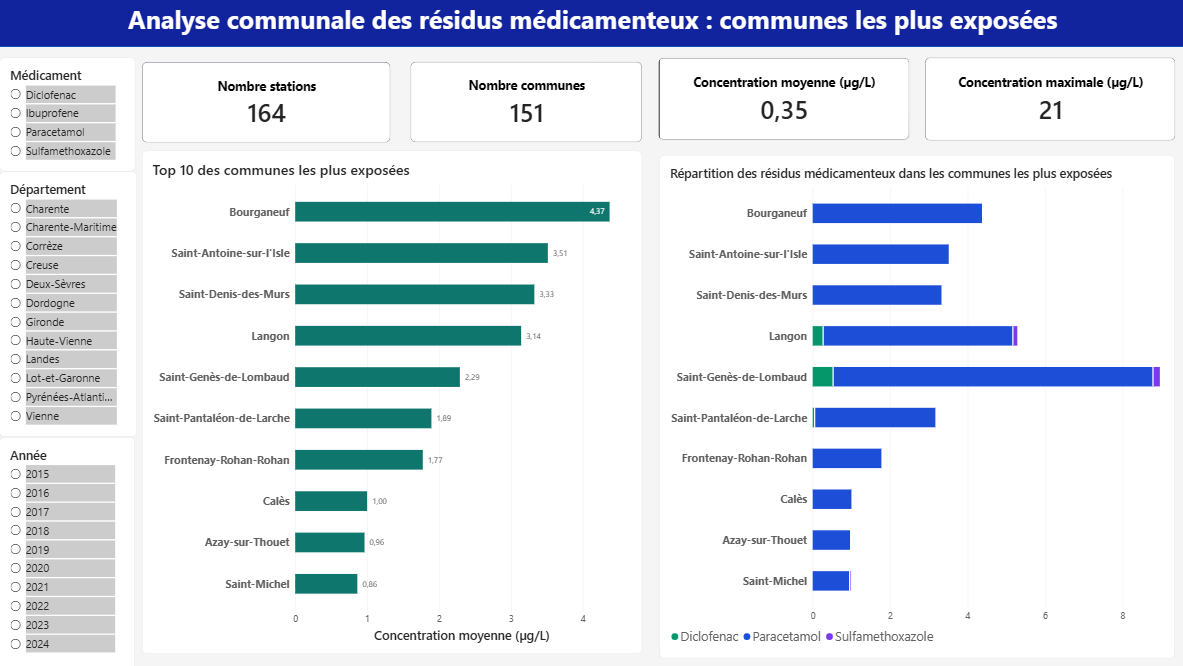

What the dashboard file says about the page in this screenshot:
{"tool":"powerbi","page":{"name":"Analyse Communale","canvas":[1920,1080],"ordinal":2},"visuals":[{"type":"shape","box":[11.9,0,1906.3,90.7],"z":0},{"type":"listSlicer","title":"Département","fields":{"Values":["donnees_medicaments_nouvelle_aquitaine_clean.departement"]},"box":[21.4,288.3,218.9,421.7],"z":1000},{"type":"listSlicer","title":"Médicament","fields":{"Values":["donnees_medicaments_nouvelle_aquitaine_clean.medicament"]},"box":[21.4,106.8,216.2,181.5],"z":2000},{"type":"listSlicer","title":"Année","fields":{"Values":["donnees_medicaments_nouvelle_aquitaine_clean.annee"]},"box":[21.5,709.8,215.1,370.5],"z":3000},{"type":"cardVisual","fields":{"Data":["Mesures.Nombre communes"]},"box":[674.2,111.5,369,130.1],"z":4000},{"type":"cardVisual","fields":{"Data":["Mesures.Concentration moyenne (µg/L)"]},"box":[1070.1,107.8,401.6,132.1],"z":5000},{"type":"cardVisual","fields":{"Data":["Mesures.Concentration maximale"]},"box":[1493.2,107.8,398.9,132.1],"z":6000},{"type":"cardVisual","fields":{"Data":["Mesures.Nombre stations"]},"box":[248.2,114.8,395,128.1],"z":7000},{"type":"clusteredBarChart","title":"Top 10 des communes les plus exposées","fields":{"Category":["donnees_medicaments_nouvelle_aquitaine_clean.commune"],"Y":["Mesures.Concentration moyenne (µg/L)"]},"box":[248.2,256.2,795.4,800.7],"z":8000},{"type":"barChart","title":"Répartition des résidus médicamenteux dans les communes les plus exposées","fields":{"Category":["donnees_medicaments_nouvelle_aquitaine_clean.commune"],"Y":["Mesures.Concentration moyenne (µg/L)"],"Series":["donnees_medicaments_nouvelle_aquitaine_clean.medicament"]},"box":[1070.3,261.6,819.4,800.7],"z":9000}]}

Visuals, with their boxes in screenshot pixels (x1, y1, x2, y2), scaled from the page's 1920x1080 canvas onto the 1183x666 screenshot:
shape: x1=7, y1=0, x2=1182, y2=56
"Département" listSlicer: x1=13, y1=178, x2=148, y2=438
"Médicament" listSlicer: x1=13, y1=66, x2=146, y2=178
"Année" listSlicer: x1=13, y1=438, x2=146, y2=665
cardVisual - Mesures.Nombre communes: x1=415, y1=69, x2=643, y2=149
cardVisual - Mesures.Concentration moyenne (µg/L): x1=659, y1=66, x2=907, y2=148
cardVisual - Mesures.Concentration maximale: x1=920, y1=66, x2=1166, y2=148
cardVisual - Mesures.Nombre stations: x1=153, y1=71, x2=396, y2=150
"Top 10 des communes les plus exposées" clusteredBarChart: x1=153, y1=158, x2=643, y2=652
"Répartition des résidus médicamenteux dans les communes les plus exposées" barChart: x1=659, y1=161, x2=1164, y2=655
